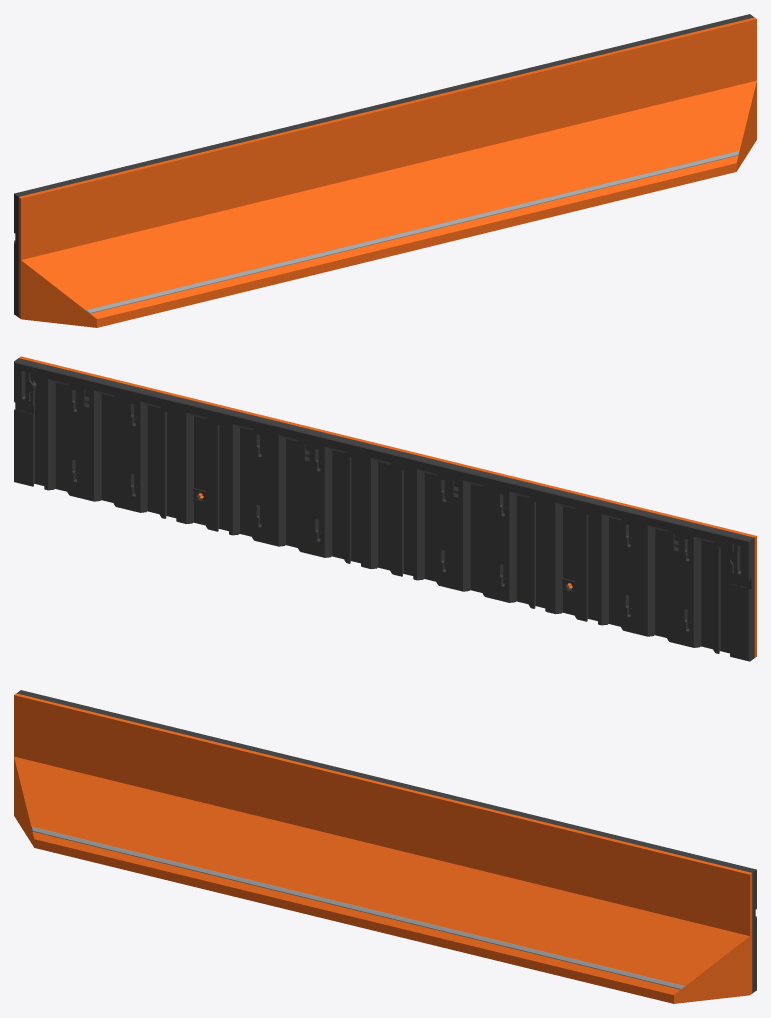
File: Faceplate_ClassicDecor_4W-1H.lib.glb
3 renders of one model, top to bottom at view 1: azimuth 30°, elevation 25°; view 2: azimuth 150°, elevation 25°; view 3: azimuth 330°, elevation 25°, orthographic.
Visible parts, largest first — view 1: Faceplate_ClassicDecor_4W-1H; view 2: Faceplate_ClassicDecor_4W-1H; view 3: Faceplate_ClassicDecor_4W-1H.
Part boxes in pixels (bbox=[...]): Faceplate_ClassicDecor_4W-1H: bbox=[14, 14, 756, 327]; Faceplate_ClassicDecor_4W-1H: bbox=[14, 356, 756, 661]; Faceplate_ClassicDecor_4W-1H: bbox=[14, 690, 756, 1003].
Size of the model in its own units: 351 by 54.97 by 29.18.
